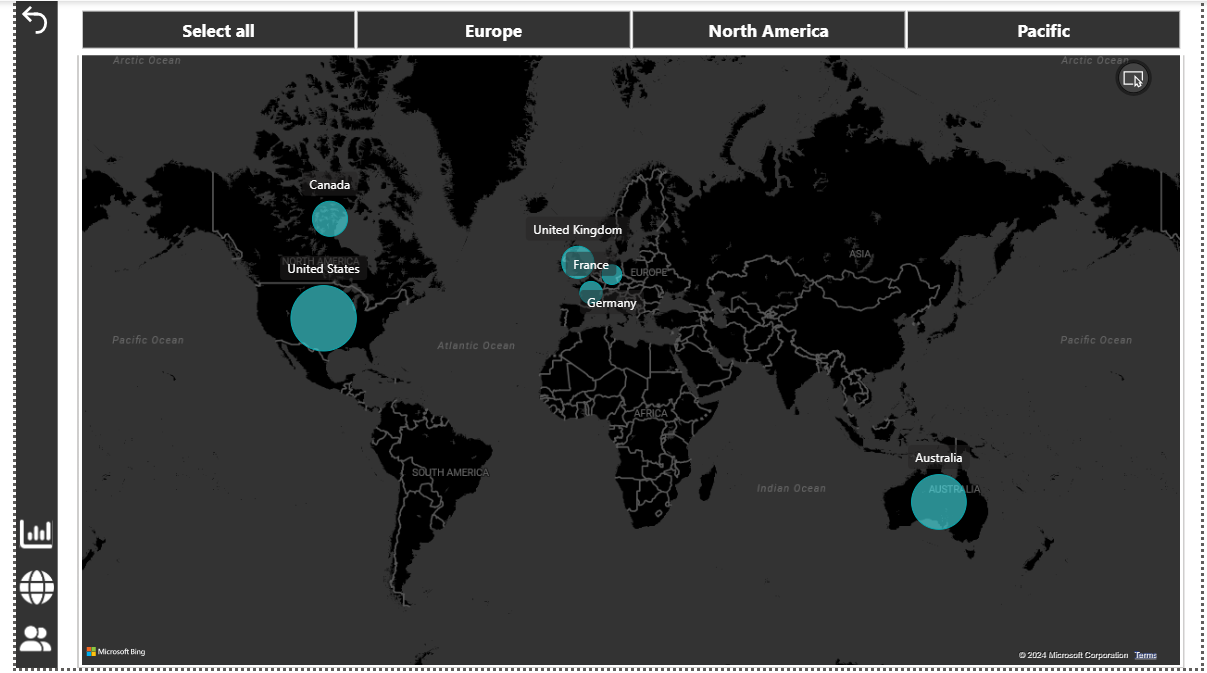

This screenshot's page, from the dashboard's own definition file:
{"tool":"powerbi","page":{"name":"Map Dashboard","canvas":[1280,720],"ordinal":1},"visuals":[{"type":"shape","title":"Left Nav Background","box":[0,0,45,720],"z":0},{"type":"actionButton","box":[0,553.3,45,43.3],"z":1000},{"type":"actionButton","box":[0,610,45,45],"z":2000},{"type":"actionButton","box":[0,667.1,45.3,42.1],"z":3000},{"type":"map","fields":{"Category":["Territory Lookup.Country"],"Size":["Measure Table.Total Orders"]},"box":[66.8,52.7,1194.9,668.4],"z":5000},{"type":"slicer","fields":{"Values":["Territory Lookup.Continent"]},"box":[45.3,3.2,1235.5,55.1],"z":6000},{"type":"actionButton","box":[0,0,45.3,40.5],"z":7000}]}

Visuals, with their boxes in screenshot pixels (x1, y1, x2, y2):
"Left Nav Background" shape: bbox=[13, 0, 54, 663]
actionButton: bbox=[13, 510, 54, 550]
actionButton: bbox=[13, 562, 54, 603]
actionButton: bbox=[13, 615, 54, 653]
map - Territory Lookup.Country x Measure Table.Total Orders: bbox=[74, 49, 1175, 664]
slicer - Territory Lookup.Continent: bbox=[54, 3, 1193, 54]
actionButton: bbox=[13, 0, 54, 37]
